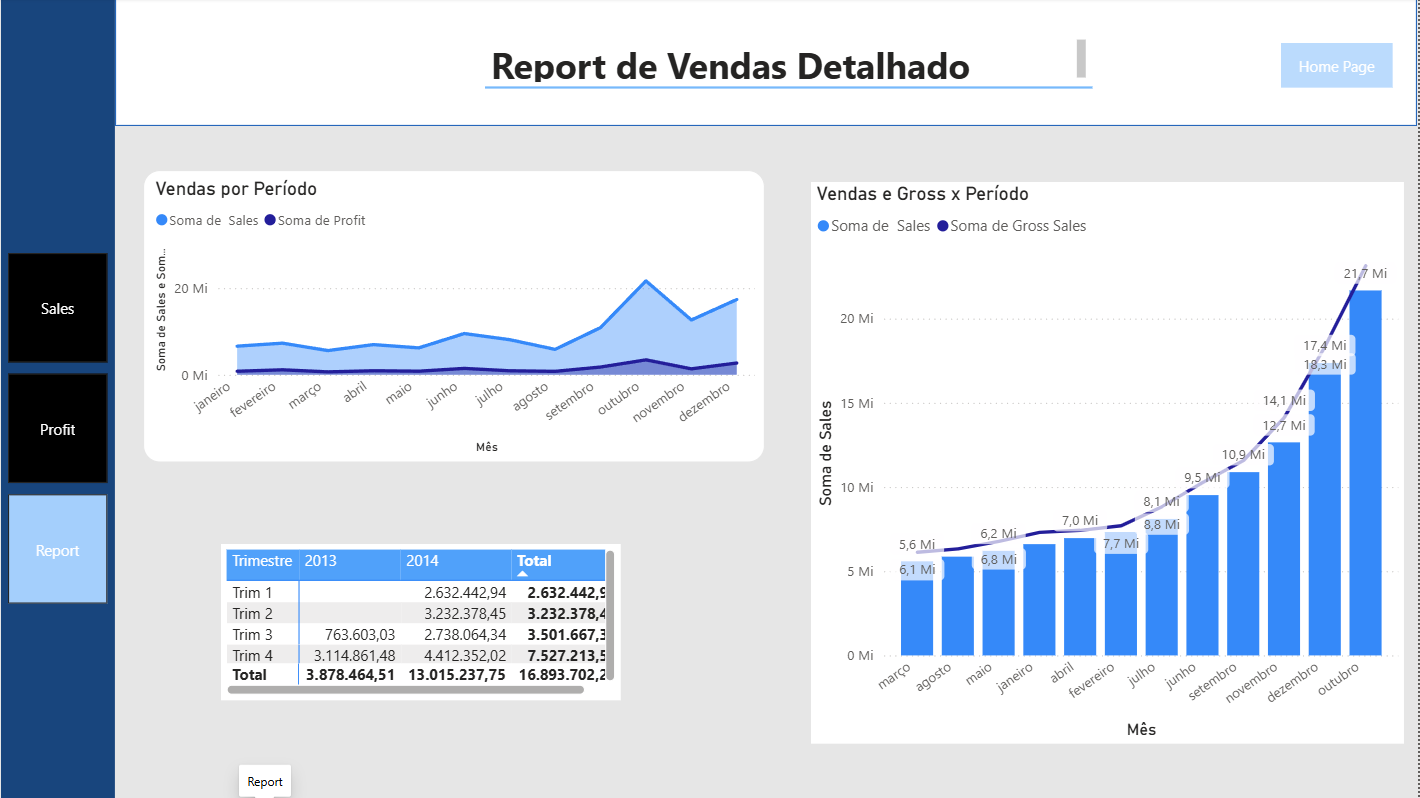

This screenshot's page, from the dashboard's own definition file:
{"tool":"powerbi","page":{"name":"Report","canvas":[1280,720],"ordinal":2},"visuals":[{"type":"shape","box":[113.7,0,1166,114.6],"z":0},{"type":"shape","box":[445.1,63.6,544.5,33.1],"z":1000},{"type":"textbox","box":[445.1,32.2,542.7,48.4],"z":3000},{"type":"actionButton","box":[1208,54.7,59.9,51.3],"z":4000},{"type":"shape","box":[11.6,0,102.1,720],"z":5000},{"type":"areaChart","title":"Vendas por Período","fields":{"Category":["financials.Date.Variation.Hierarquia de datas.Mês"],"Y":["Sum(financials. Sales)","Sum(financials.Profit)"]},"box":[138.8,154,557,262.4],"z":6000},{"type":"pivotTable","fields":{"Columns":["financials.Year"],"Rows":["financials.Date.Variation.Hierarquia de datas.Trimestre"],"Values":["Sum(financials.Profit)"]},"box":[208.7,489,358.2,139.7],"z":7000},{"type":"lineStackedColumnComboChart","title":"Vendas e Gross x Período","fields":{"Category":["financials.Date.Variation.Hierarquia de datas.Mês"],"Y":["Sum(financials. Sales)"],"Y2":["Sum(financials.Gross Sales)"]},"box":[737,164.8,531,503.3],"z":8000},{"type":"actionButton","box":[1157.9,40.3,100,40],"z":9000},{"type":"pageNavigator","box":[17.9,228.4,89.6,314.3],"z":10000}]}

Visuals, with their boxes on the page's 1280x720 design canvas (x1, y1, x2, y2). These are canvas units, not pixel positions in the 1420x798 screenshot, which may show the page scaled, cropped or inside an application window:
shape: pyautogui.locateOnScreen(114, 0, 1280, 115)
shape: pyautogui.locateOnScreen(445, 64, 990, 97)
textbox: pyautogui.locateOnScreen(445, 32, 988, 81)
actionButton: pyautogui.locateOnScreen(1208, 55, 1268, 106)
shape: pyautogui.locateOnScreen(12, 0, 114, 720)
"Vendas por Período" areaChart: pyautogui.locateOnScreen(139, 154, 696, 416)
pivotTable - financials.Year x financials.Date.Variation.Hierarquia de datas.Trimestre: pyautogui.locateOnScreen(209, 489, 567, 629)
"Vendas e Gross x Período" lineStackedColumnComboChart: pyautogui.locateOnScreen(737, 165, 1268, 668)
actionButton: pyautogui.locateOnScreen(1158, 40, 1258, 80)
pageNavigator: pyautogui.locateOnScreen(18, 228, 108, 543)
